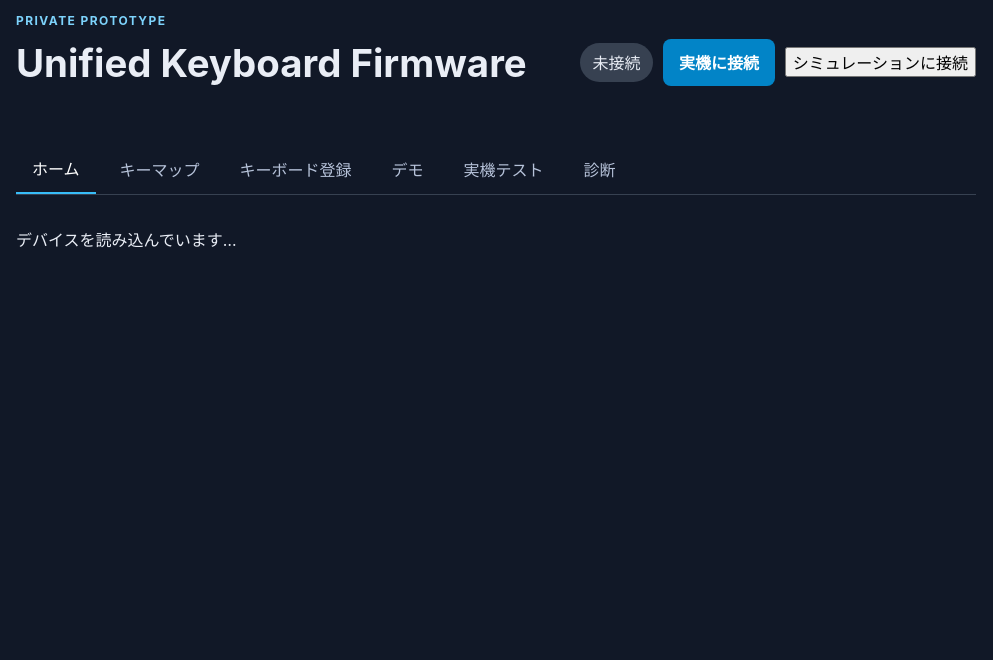
bridge configuration › simulates the USB US-at conversion and records its HID output
Click the button "デモ" at (408, 169), box x1=376 y1=144 x2=440 y2=194
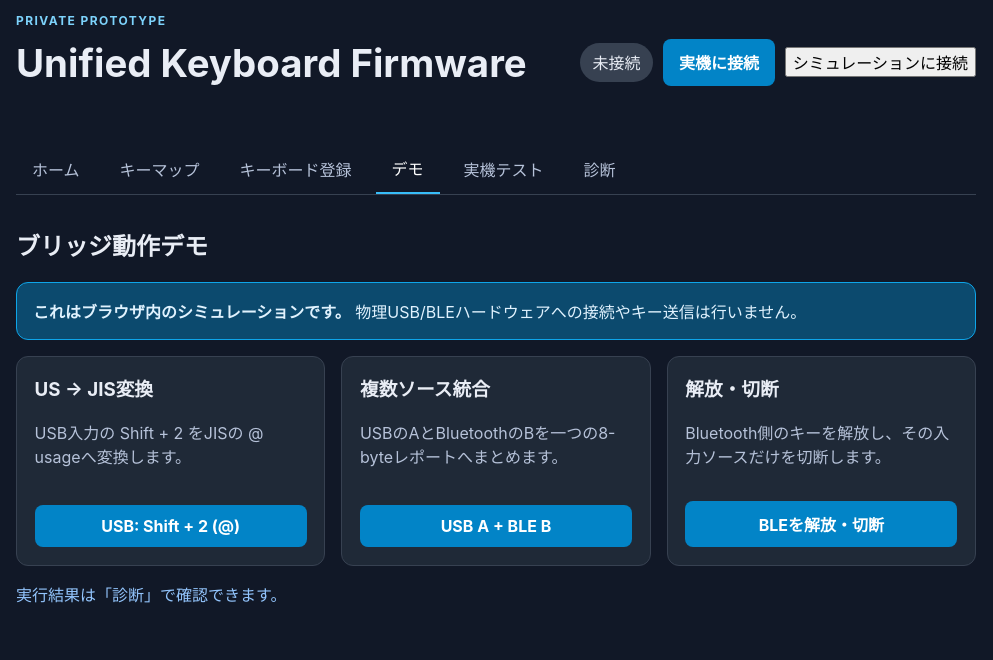
Expected: the text "これはブラウザ内のシミュレーションです。" is shown, x1=33 y1=302 x2=351 y2=322
Click the button "USB: Shift + 2 (@)" at (171, 526), box x1=35 y1=505 x2=307 y2=547
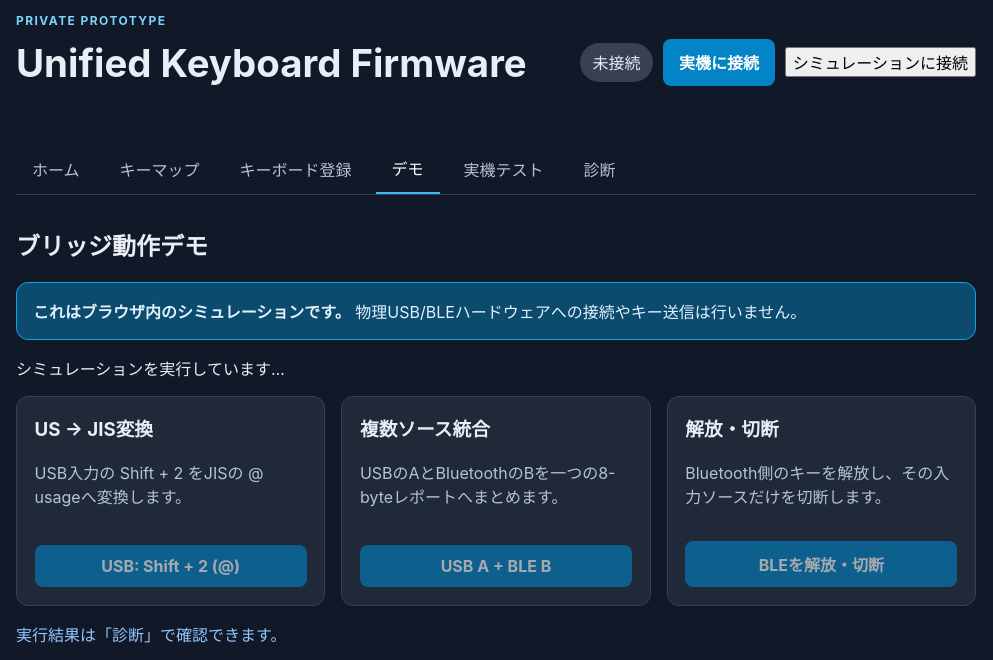
Click the button "診断" at (600, 169), box x1=568 y1=144 x2=632 y2=194
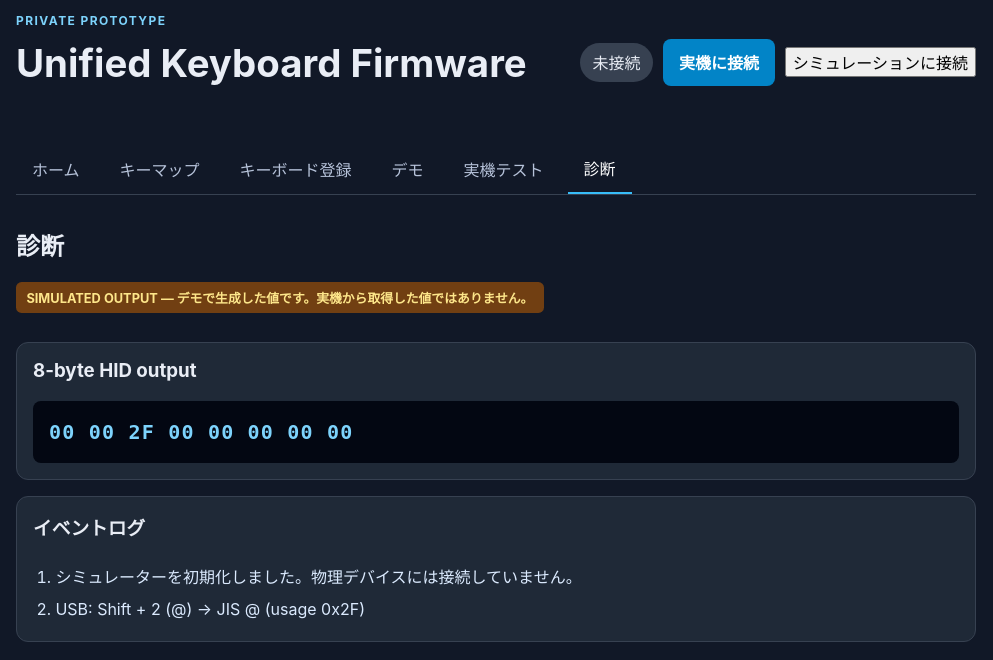
Expected: the text "00 00 2F 00 00 00 00 00" is shown, x1=33 y1=401 x2=959 y2=463
Expected: the list item "USB: Shift + 2 (@) → JIS @ (usage 0x2F)" is shown, x1=55 y1=599 x2=365 y2=619
